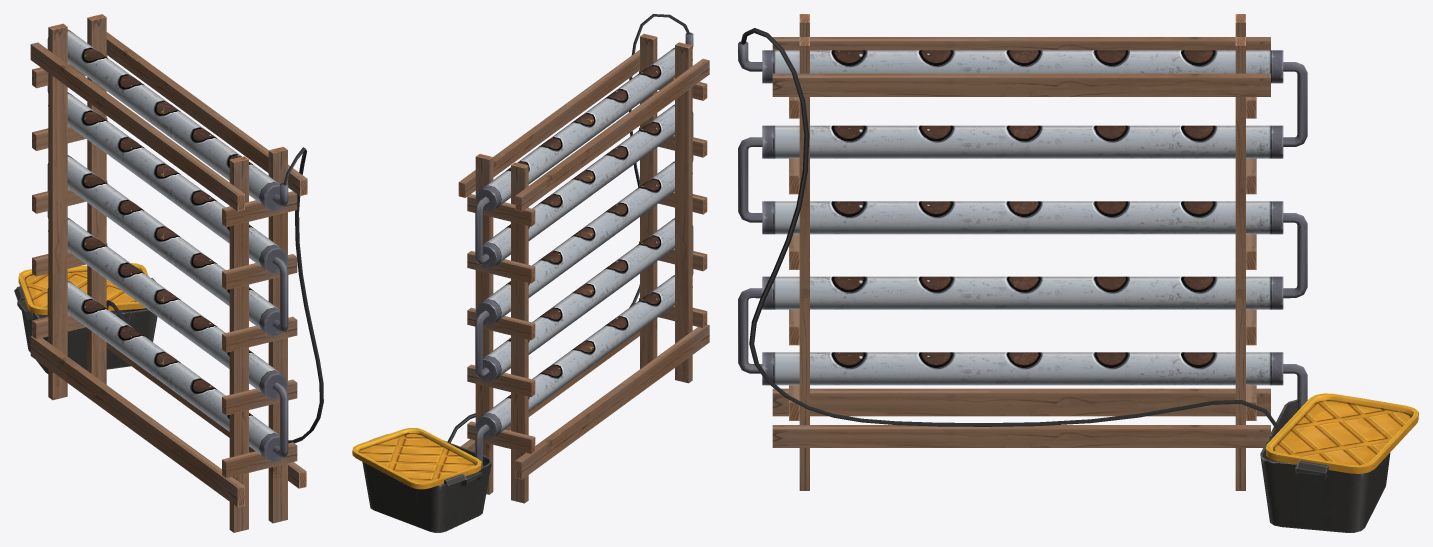
File: hydroponics_V01.fbx
3 renders of one model, left to right at view 1: azimuth 30°, elevation 25°; view 2: azimuth 150°, elevation 25°; view 3: azimuth 270°, elevation 25°, orthographic. The views are drawn at different scales.
Parts seen in each view (by area): view 1: hydroponics_V01; view 2: hydroponics_V01; view 3: hydroponics_V01.
Part boxes in pixels (<box>): hydroponics_V01: <box>14,14,323,532</box>; hydroponics_V01: <box>352,14,709,532</box>; hydroponics_V01: <box>738,14,1418,532</box>.
Size of the model in its own units: 0.8202 by 1.95 by 2.61.
